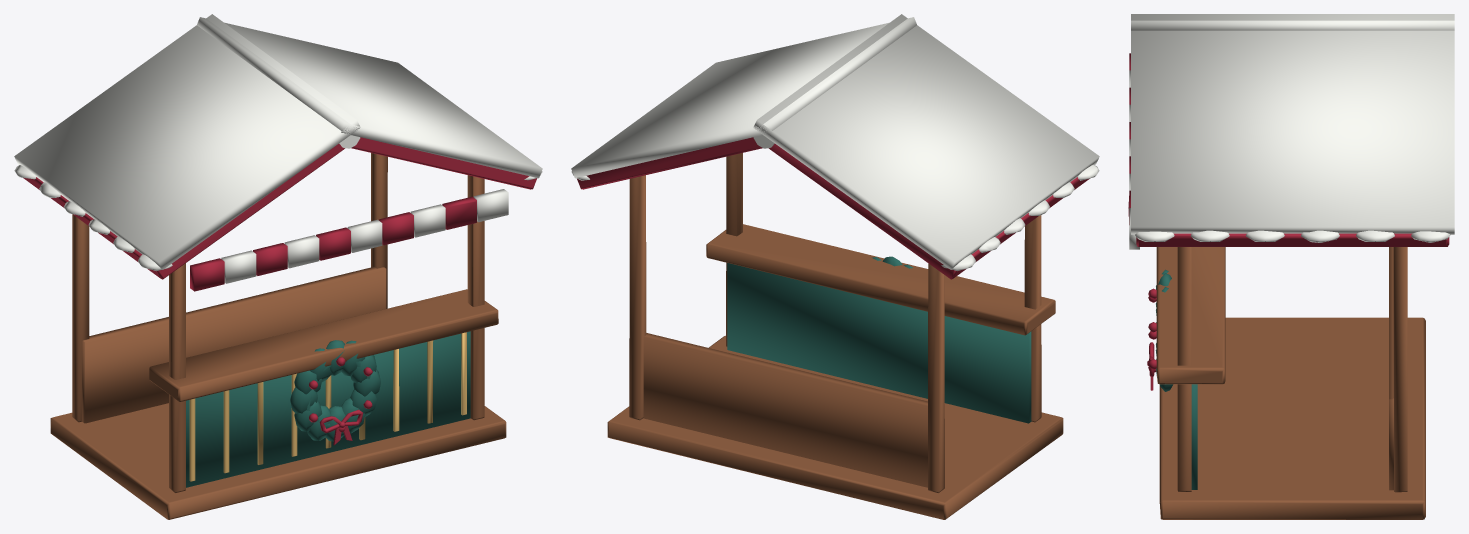
File: elfhouse.glb
3 renders of one model, left to right at view 1: azimuth 30°, elevation 25°; view 2: azimuth 150°, elevation 25°; view 3: azimuth 270°, elevation 25°, orthographic. The views are drawn at different scales.
Visible parts, largest first — view 1: cream, oak, pine, berry, brass; view 2: oak, cream, pine, berry; view 3: cream, oak, berry, pine.
Boxes of the visible parts, box(x1,y1,x2,y2) form: cream: box(14, 14, 542, 283); oak: box(50, 153, 506, 519); pine: box(186, 331, 470, 487); berry: box(23, 137, 536, 445); brass: box(189, 332, 466, 481); oak: box(607, 153, 1063, 519); cream: box(571, 14, 1099, 270); pine: box(727, 256, 1031, 423); berry: box(577, 137, 1089, 279); cream: box(1129, 14, 1454, 249); oak: box(1156, 247, 1425, 519); berry: box(1128, 53, 1449, 390); pine: box(1155, 269, 1197, 489).
Bounding box in the file's own units: 3.29 × 2.9 × 2.08.
